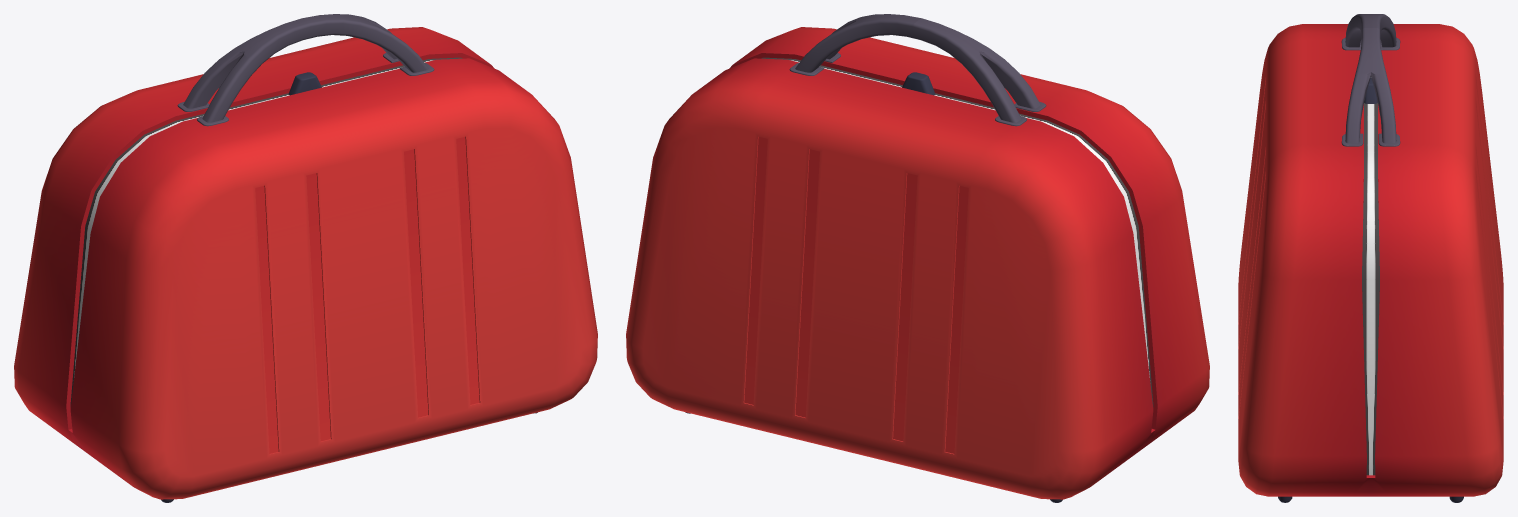
File: Baggage_3_Red.fbx
3 renders of one model, left to right at view 1: azimuth 30°, elevation 25°; view 2: azimuth 150°, elevation 25°; view 3: azimuth 270°, elevation 25°, orthographic. The views are drawn at different scales.
Parts seen in each view (by area): view 1: Baggage_3_Red; view 2: Baggage_3_Red; view 3: Baggage_3_Red.
Part boxes in pixels (bbox=[...]): Baggage_3_Red: bbox=[14, 14, 597, 502]; Baggage_3_Red: bbox=[626, 14, 1209, 502]; Baggage_3_Red: bbox=[1238, 14, 1503, 502].
Size of the model in its own units: 60.85 by 49.27 by 30.64.
